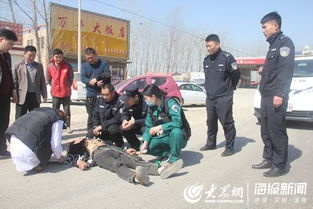falling: (61, 131, 182, 185)
